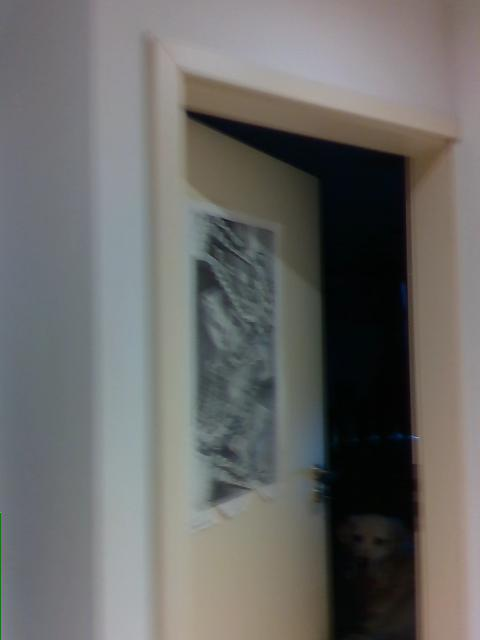semi_door: (140, 29, 466, 639)
